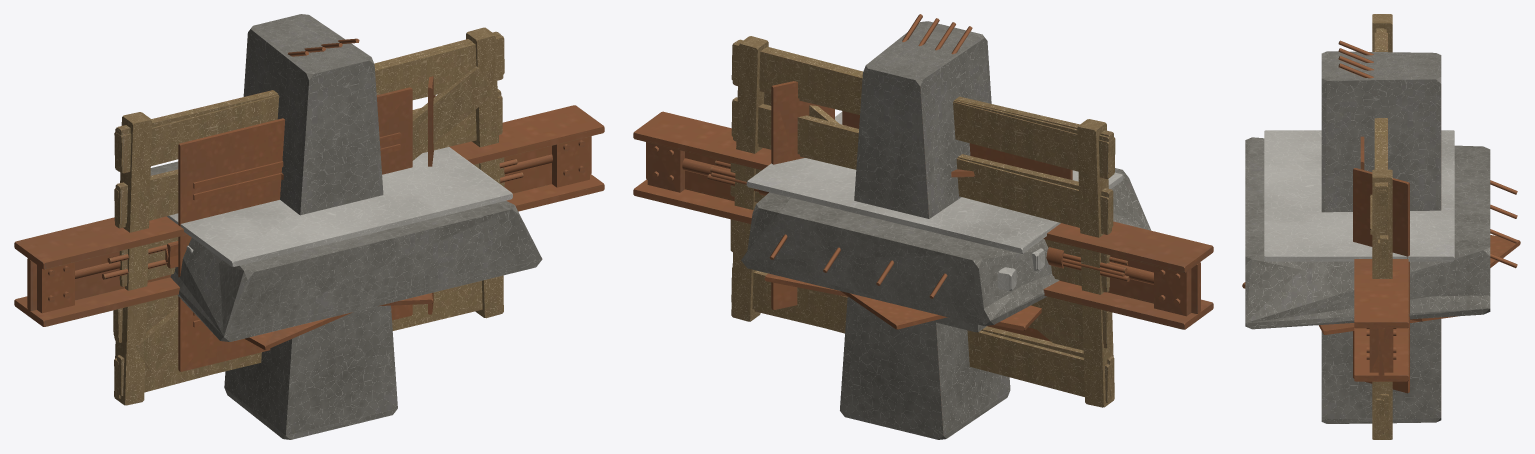
The model's file is propsDebris.glb.
3 views of the same model, side by side, from view 1: azimuth 30°, elevation 25°; view 2: azimuth 150°, elevation 25°; view 3: azimuth 270°, elevation 25° (orthographic). The views are drawn at different scales.
Parts seen in each view (by area): view 1: chunk_0, concreteSlab_lod1_v0, iBeam_lod0_v0, metalPanel_lod0_v0, concreteSlab_lod0_v0, barricadeWood_lod1_v0, chunk_4, brokenPillar_lod0_v0, barricadeWood_lod1_v1, barricadeWood_lod0_v0, concreteSlab_lod0_v1, chunk_5 (+11 smaller); view 2: chunk_0, iBeam_lod0_v0, concreteSlab_lod1_v0, barricadeWood_lod0_v1, brokenPillar_lod0_v0, barricadeWood_lod1_v0, barricadeWood_lod0_v0, chunk_4, concreteSlab_lod1_v1, concreteSlab_lod0_v0, barricadeWood_lod1_v1, metalPanel_lod0_v0 (+10 smaller); view 3: concreteSlab_lod0_v0, chunk_4, brokenPillar_lod0_v0, concreteSlab_lod0_v1, brokenPillar_lod1_v0, iBeam_lod0_v0, concreteSlab_lod1_v1, metalPanel_lod0_v0, chunk_0, brokenPillar_lod0_v1, barricadeWood_lod0_v0, barricadeWood_lod0_v1 (+7 smaller).
Part boxes in pixels (<box>): chunk_0: <box>245,27,397,439</box>; concreteSlab_lod1_v0: <box>221,206,542,341</box>; iBeam_lod0_v0: <box>14,105,604,326</box>; metalPanel_lod0_v0: <box>178,76,435,371</box>; concreteSlab_lod0_v0: <box>169,147,520,340</box>; barricadeWood_lod1_v0: <box>114,33,503,405</box>; chunk_4: <box>163,147,514,340</box>; brokenPillar_lod0_v0: <box>224,14,371,421</box>; barricadeWood_lod1_v1: <box>114,27,504,398</box>; barricadeWood_lod0_v0: <box>114,31,503,404</box>; concreteSlab_lod0_v1: <box>150,162,509,336</box>; chunk_5: <box>116,66,493,395</box>; chunk_0: <box>840,65,1010,439</box>; iBeam_lod0_v0: <box>633,111,1213,329</box>; concreteSlab_lod1_v0: <box>741,172,1149,325</box>; barricadeWood_lod0_v1: <box>730,36,1112,402</box>; brokenPillar_lod0_v0: <box>866,14,987,439</box>; barricadeWood_lod1_v0: <box>731,42,1114,407</box>; barricadeWood_lod0_v0: <box>731,41,1114,406</box>; chunk_4: <box>743,113,1137,320</box>; concreteSlab_lod1_v1: <box>746,204,1051,324</box>; concreteSlab_lod0_v0: <box>748,112,1150,298</box>; barricadeWood_lod1_v1: <box>730,39,1115,402</box>; metalPanel_lod0_v0: <box>771,81,1072,341</box>; concreteSlab_lod0_v0: <box>1245,130,1517,328</box>; chunk_4: <box>1245,130,1490,329</box>; brokenPillar_lod0_v0: <box>1321,40,1441,423</box>; concreteSlab_lod0_v1: <box>1245,139,1490,322</box>; brokenPillar_lod1_v0: <box>1321,41,1436,212</box>; iBeam_lod0_v0: <box>1354,259,1408,381</box>; concreteSlab_lod1_v1: <box>1279,247,1490,318</box>; metalPanel_lod0_v0: <box>1353,136,1409,393</box>; chunk_0: <box>1321,77,1441,423</box>; brokenPillar_lod0_v1: <box>1321,52,1441,423</box>; barricadeWood_lod0_v0: <box>1370,23,1392,439</box>; barricadeWood_lod0_v1: <box>1370,14,1392,429</box>.
Size of what is drawn, in the model's own units: 2.2 by 1.41 by 1.02.
1 material, 1 textured.
